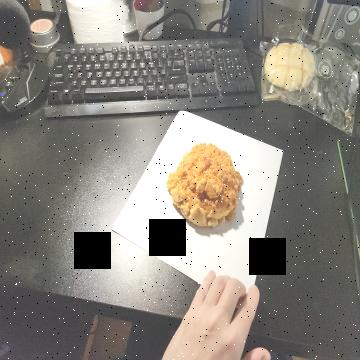soboru_bread: (166, 142, 245, 234)
